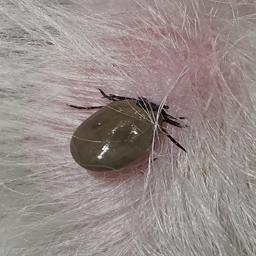Ixodes scapularis: (66, 89, 186, 173)
